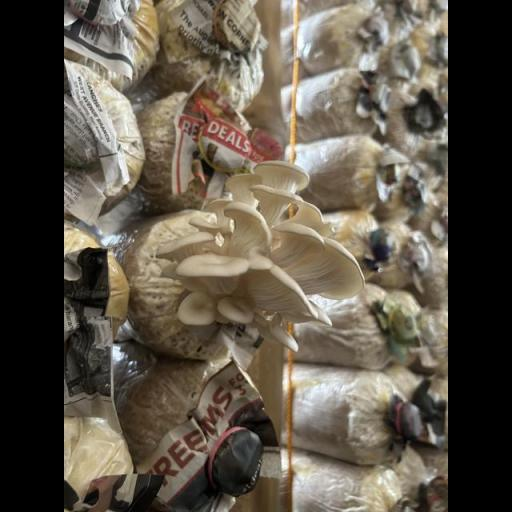White Oyster Mushroom: (155, 145, 375, 362)
